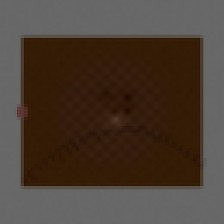pinguecula_lesion: (147, 108, 182, 136)
